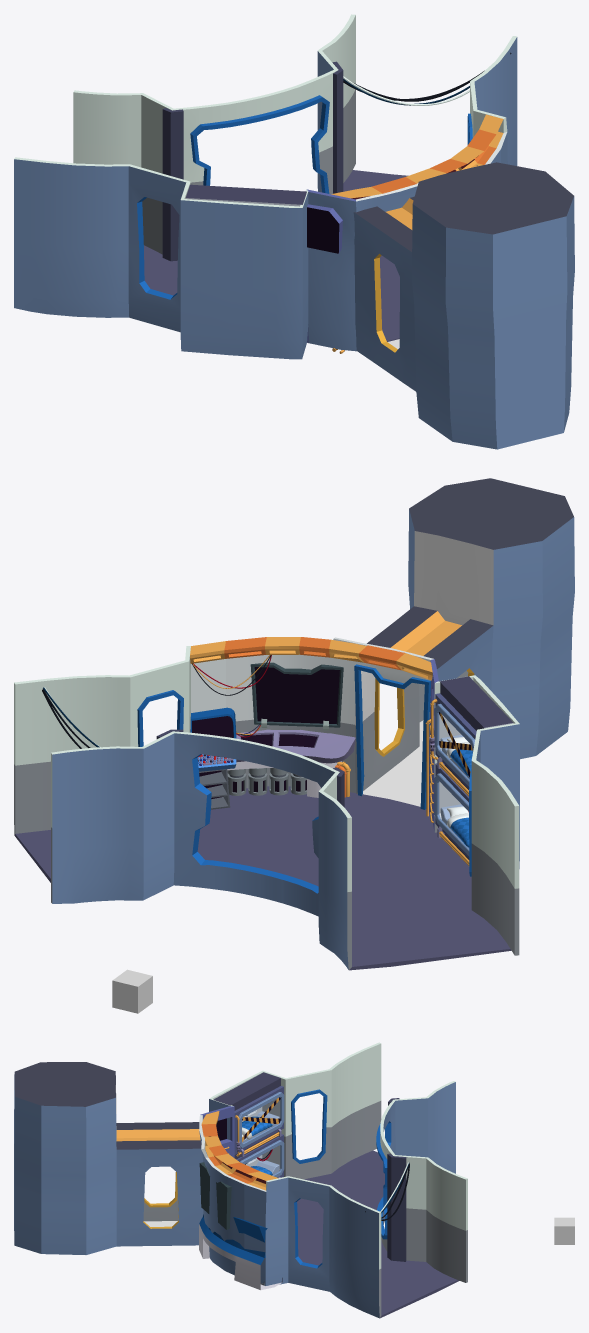
3 views of the same model, one above another, from view 1: azimuth 30°, elevation 25°; view 2: azimuth 150°, elevation 25°; view 3: azimuth 270°, elevation 25° (orthographic). The views are drawn at different scales.
Visible parts, largest first — view 1: Bunk_room_Base; view 2: Bunk_room_Base, Cube; view 3: Bunk_room_Base, Cube.
Boxes of the visible parts, bbox=[...] form: Bunk_room_Base: bbox=[14, 14, 574, 449]; Bunk_room_Base: bbox=[14, 478, 574, 970]; Cube: bbox=[112, 969, 152, 1013]; Bunk_room_Base: bbox=[14, 1042, 467, 1318]; Cube: bbox=[554, 1217, 574, 1244].
Bounding box in the file's own units: 3922 × 1690 × 5445.
